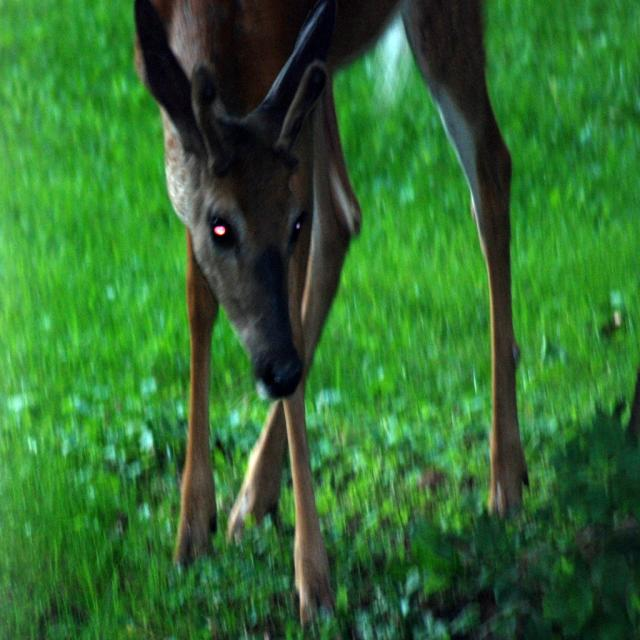Deer: (134, 0, 530, 640)
